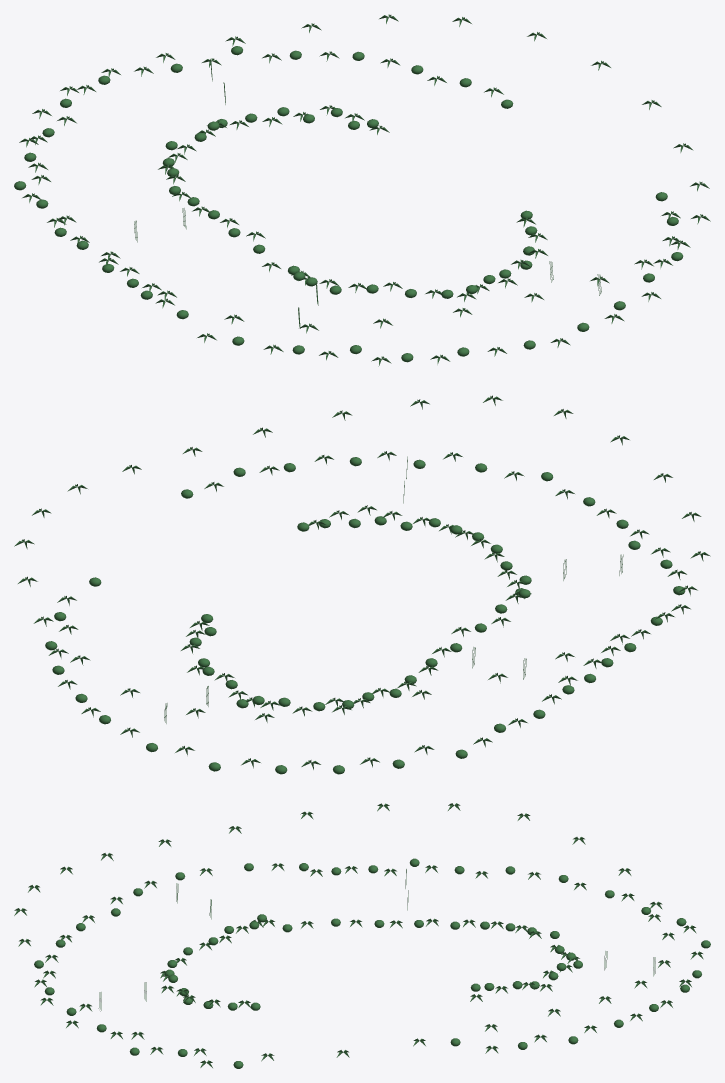
The model's file is Jungle_JungleLeaf_1.fbx.
3 renders of one model, top to bottom at view 1: azimuth 30°, elevation 25°; view 2: azimuth 150°, elevation 25°; view 3: azimuth 270°, elevation 25°, orthographic. The views are drawn at different scales.
Visible parts, largest first — view 1: Jungle_JungleLeaf_1; view 2: Jungle_JungleLeaf_1; view 3: Jungle_JungleLeaf_1.
Part boxes in pixels (<box>): Jungle_JungleLeaf_1: <box>14,14,710,366</box>; Jungle_JungleLeaf_1: <box>14,395,710,774</box>; Jungle_JungleLeaf_1: <box>14,803,710,1068</box>.
Bounding box in the file's own units: 104564 × 12155 × 124010.
